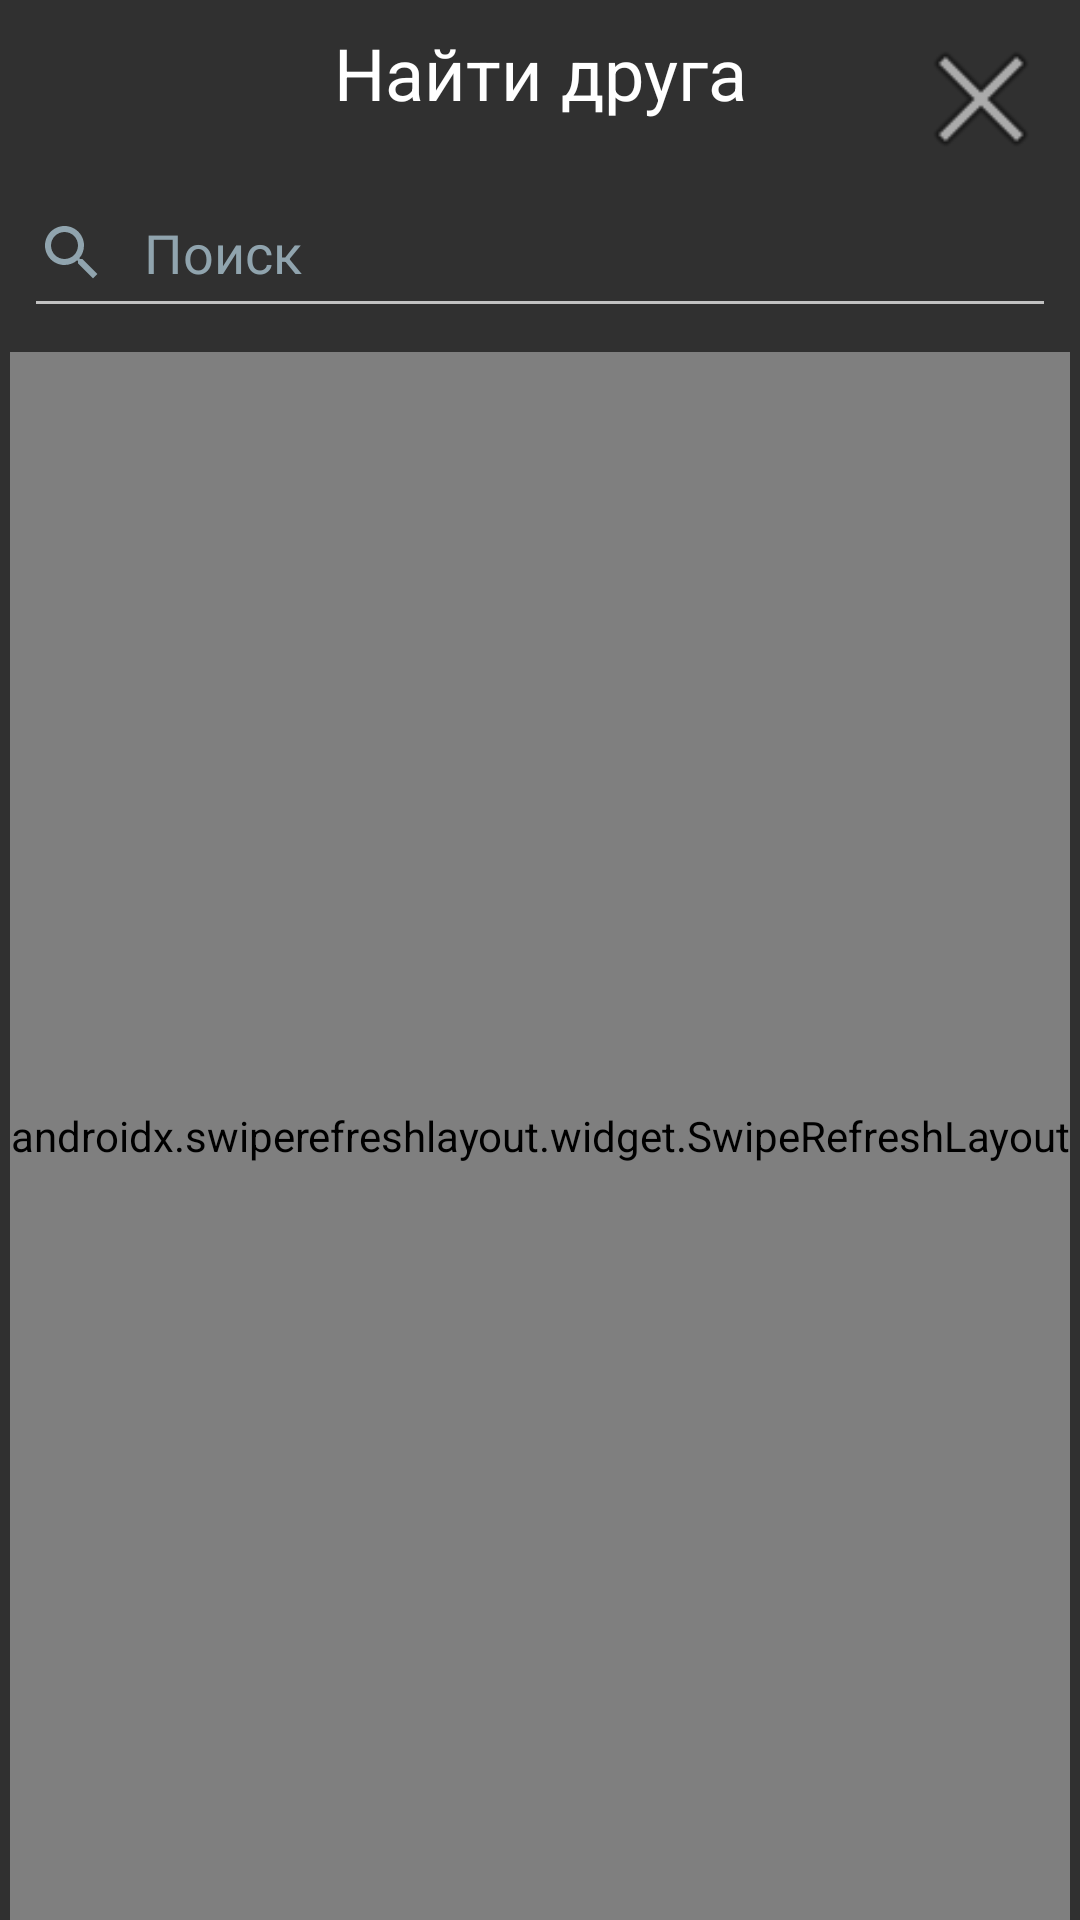

Where to tap for icons on this 1080x1920 app screen, as [x,y]:
close clear cancel: [981,99]
